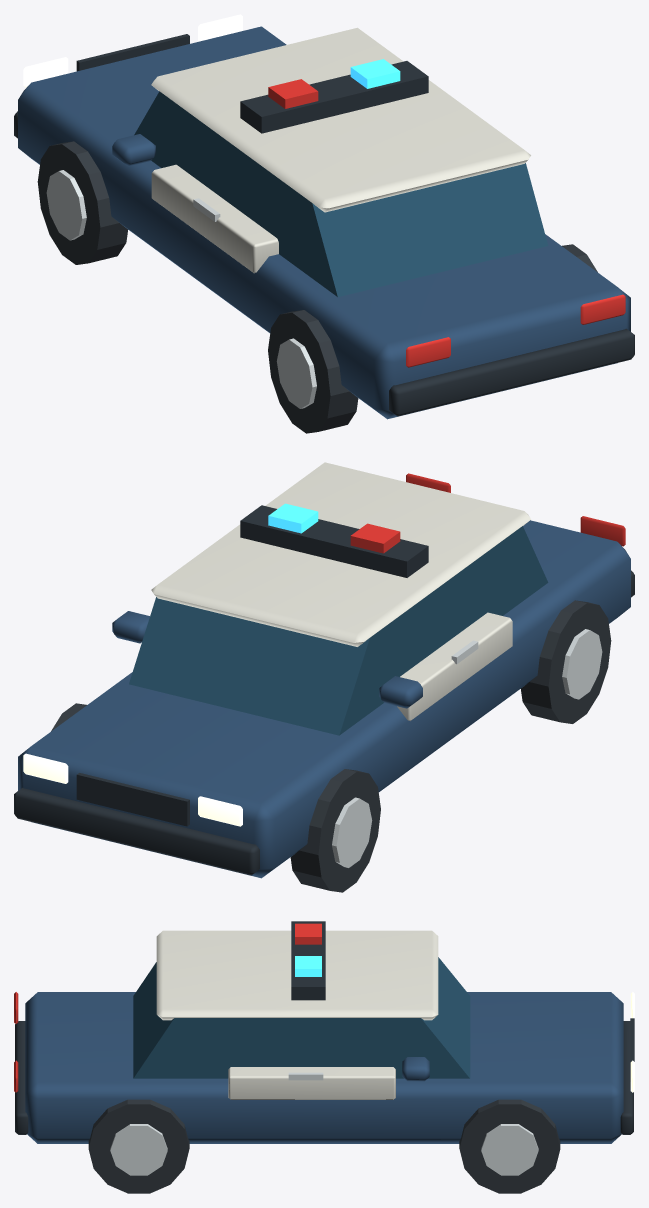
Rendered from car_police.glb.
The picture shows the model from 3 angles, top to bottom: view 1: azimuth 30°, elevation 25°; view 2: azimuth 150°, elevation 25°; view 3: azimuth 270°, elevation 25°; orthographic projection. The views are drawn at different scales.
Visible parts, largest first — view 1: car_police_lower, car_police_roof, car_police_glasshouse, car_police_rear_bumper, car_police_white_doors, car_police_tire.001, car_police_tire, car_police_lightbar, car_police_hub, car_police_hub.001, car_police_grille, car_police_blue_beacon (+6 smaller); view 2: car_police_lower, car_police_glasshouse, car_police_roof, car_police_front_bumper, car_police_tire.001, car_police_tire, car_police_lightbar, car_police_white_doors, car_police_grille, car_police_hub, car_police_hub.001, car_police_red_beacon (+6 smaller); view 3: car_police_lower, car_police_roof, car_police_glasshouse, car_police_tire.002, car_police_tire.003, car_police_white_doors, car_police_hub.002, car_police_hub.003, car_police_lightbar, car_police_rear_bumper, car_police_front_bumper, car_police_mirror.001 (+2 smaller).
Part boxes in pixels (left/top/right/bottom): car_police_lower: left=18, top=26, right=630, bottom=419; car_police_roof: left=151, top=27, right=530, bottom=212; car_police_glasshouse: left=134, top=91, right=548, bottom=297; car_police_rear_bumper: left=389, top=328, right=634, bottom=416; car_police_white_doors: left=151, top=164, right=278, bottom=273; car_police_tire.001: left=37, top=141, right=127, bottom=264; car_police_tire: left=268, top=310, right=358, bottom=433; car_police_lightbar: left=240, top=61, right=428, bottom=133; car_police_hub: left=276, top=338, right=316, bottom=408; car_police_hub.001: left=46, top=170, right=86, bottom=240; car_police_grille: left=76, top=34, right=189, bottom=71; car_police_blue_beacon: left=350, top=59, right=400, bottom=88; car_police_lower: left=18, top=520, right=630, bottom=878; car_police_glasshouse: left=129, top=526, right=548, bottom=735; car_police_roof: left=151, top=462, right=530, bottom=646; car_police_front_bumper: left=14, top=787, right=259, bottom=875; car_police_tire.001: left=290, top=769, right=380, bottom=892; car_police_tire: left=521, top=600, right=611, bottom=723; car_police_lightbar: left=240, top=505, right=428, bottom=577; car_police_white_doors: left=397, top=612, right=512, bottom=720; car_police_grille: left=76, top=773, right=189, bottom=826; car_police_hub: left=562, top=629, right=602, bottom=699; car_police_hub.001: left=332, top=797, right=372, bottom=867; car_police_red_beacon: left=350, top=523, right=400, bottom=553; car_police_lower: left=25, top=992, right=623, bottom=1143; car_police_roof: left=156, top=930, right=438, bottom=1020; car_police_glasshouse: left=133, top=957, right=470, bottom=1078; car_police_tire.002: left=88, top=1099, right=189, bottom=1193; car_police_tire.003: left=459, top=1099, right=560, bottom=1193; car_police_white_doors: left=228, top=1067, right=395, bottom=1099; car_police_hub.002: left=110, top=1124, right=167, bottom=1175; car_police_hub.003: left=481, top=1124, right=538, bottom=1175; car_police_lightbar: left=291, top=921, right=325, bottom=1000; car_police_rear_bumper: left=15, top=1021, right=28, bottom=1134; car_police_front_bumper: left=620, top=1021, right=633, bottom=1134; car_police_mirror.001: left=402, top=1057, right=429, bottom=1081.
Size of the model in its own units: 2.27 by 1.72 by 5.05.
